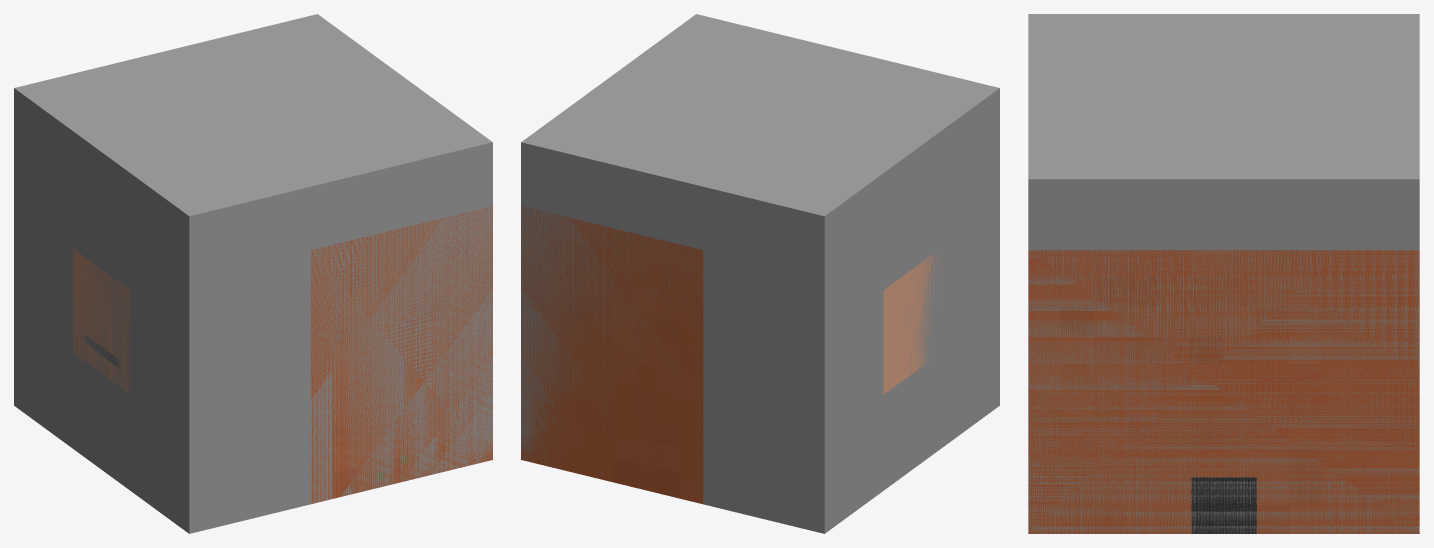
Rendered from FuelHeater.obj.
3 renders of one model, left to right at view 1: azimuth 30°, elevation 25°; view 2: azimuth 150°, elevation 25°; view 3: azimuth 270°, elevation 25°, orthographic. The views are drawn at different scales.
Parts seen in each view (by area): view 1: Minecraft_Block.001_Cube.002, Main, BurnerA; view 2: Minecraft_Block.001_Cube.002, Main, BurnerA; view 3: Minecraft_Block.001_Cube.002, Main.
Boxes of the visible parts, box(x1,y1,x2,y2) form: Minecraft_Block.001_Cube.002: box(14, 14, 492, 533); Main: box(310, 206, 492, 503); BurnerA: box(73, 248, 130, 394); Minecraft_Block.001_Cube.002: box(521, 14, 999, 533); Main: box(521, 206, 703, 504); BurnerA: box(883, 250, 940, 394); Minecraft_Block.001_Cube.002: box(1028, 14, 1419, 533); Main: box(1028, 250, 1419, 533).
Bounding box in the file's own units: 1 × 1 × 1.
2 materials, 1 textured.
